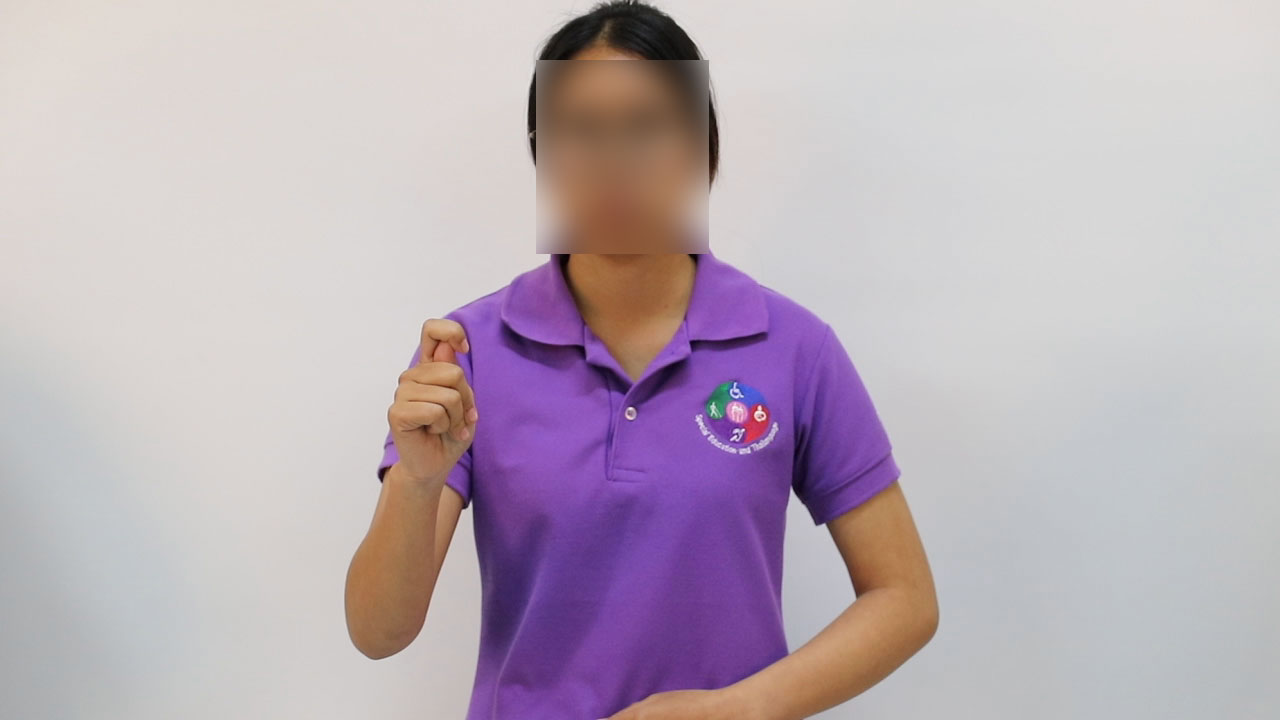or: (375, 313, 482, 490)
